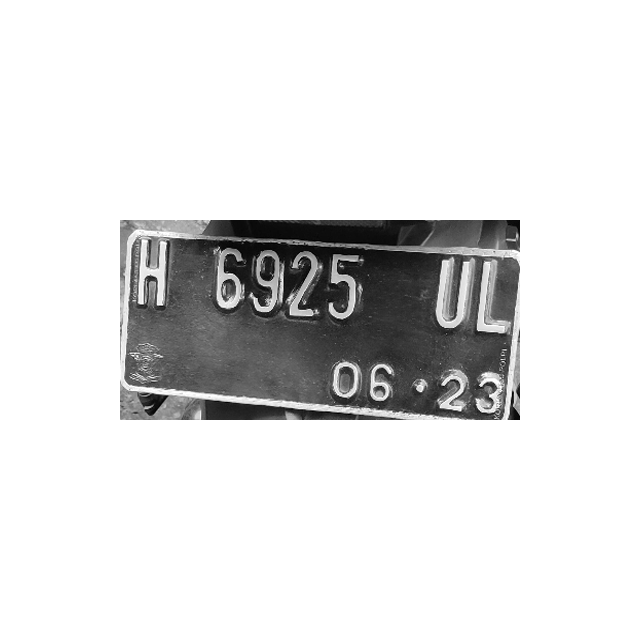contain: (435, 253, 474, 333), (473, 260, 511, 340), (135, 236, 169, 314), (211, 242, 245, 320), (249, 247, 283, 325), (285, 246, 319, 324), (327, 248, 361, 326)
